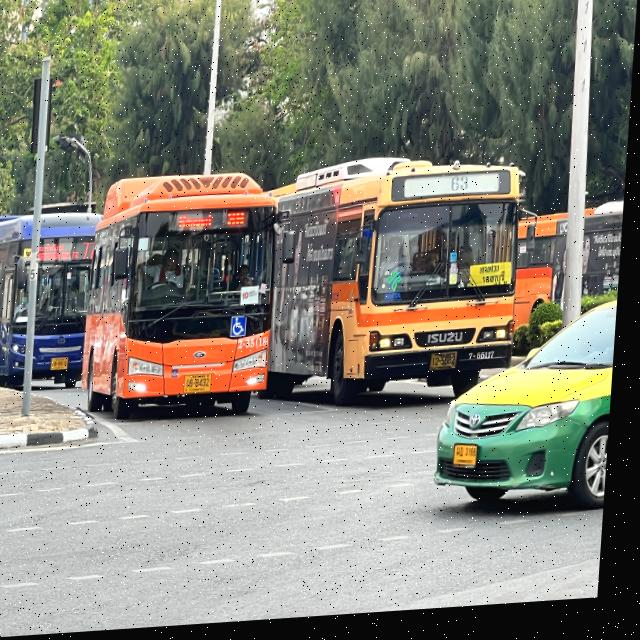BMTA-bus: (262, 156, 529, 414)
Bus-Line-Number: (450, 178, 476, 204), (226, 209, 252, 233), (83, 241, 101, 264)
Destination-Sign-Normal: (168, 210, 227, 239), (42, 241, 85, 266)
Destination-Sign-Normal-Expressway: (473, 270, 516, 297)
TSB-Bus: (85, 173, 286, 428), (0, 211, 104, 394)
